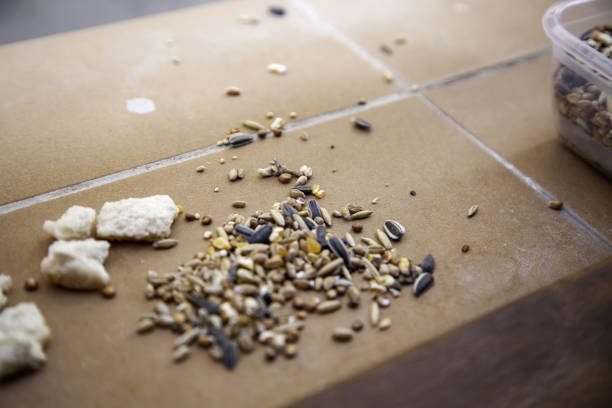seed: (127, 164, 441, 373)
